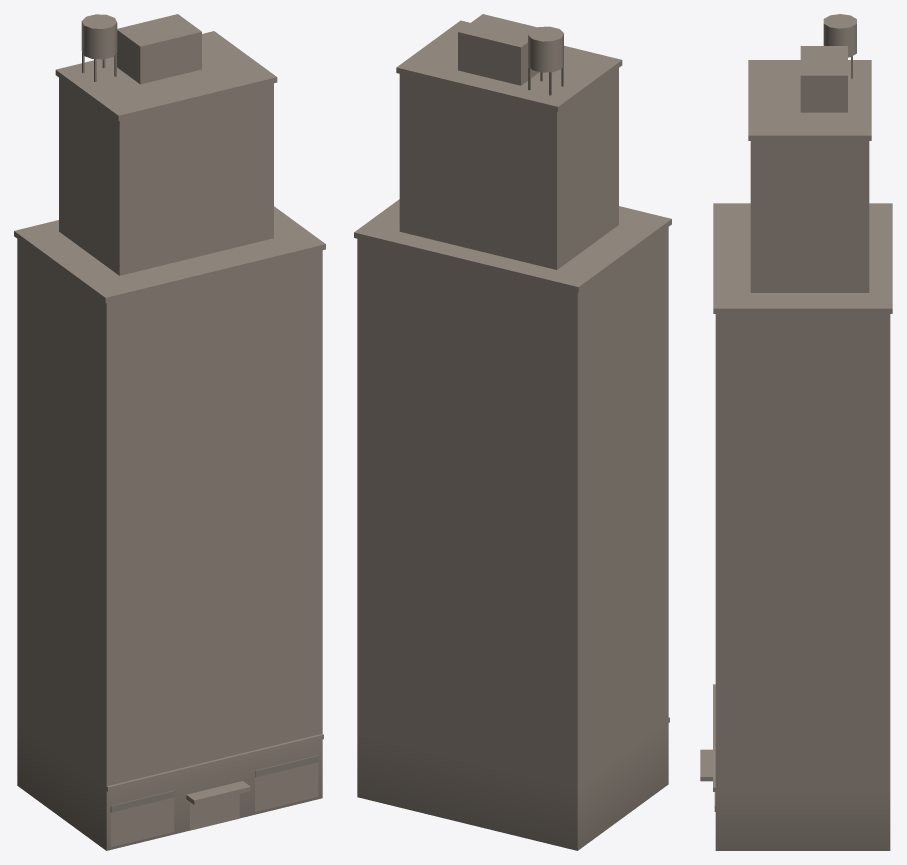
The model's file is tower_brick_a.glb.
3 renders of one model, left to right at view 1: azimuth 30°, elevation 25°; view 2: azimuth 150°, elevation 25°; view 3: azimuth 270°, elevation 25°, orthographic. The views are drawn at different scales.
Parts seen in each view (by area): view 1: tower_brick_a; view 2: tower_brick_a; view 3: tower_brick_a.
Boxes of the visible parts, left/top/right/bottom form: tower_brick_a: left=14, top=14, right=325, bottom=850; tower_brick_a: left=354, top=14, right=671, bottom=850; tower_brick_a: left=700, top=14, right=892, bottom=850.
Bounding box in the file's own units: 25.7 × 85.7 × 19.85.
